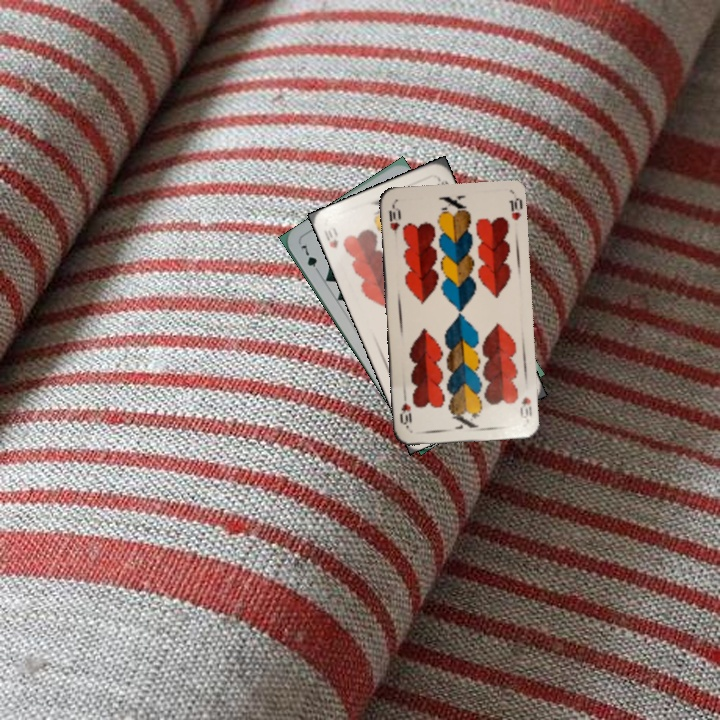G7: (296, 241, 323, 276)
H10: (385, 201, 402, 242), (320, 223, 341, 251), (516, 392, 534, 421)
